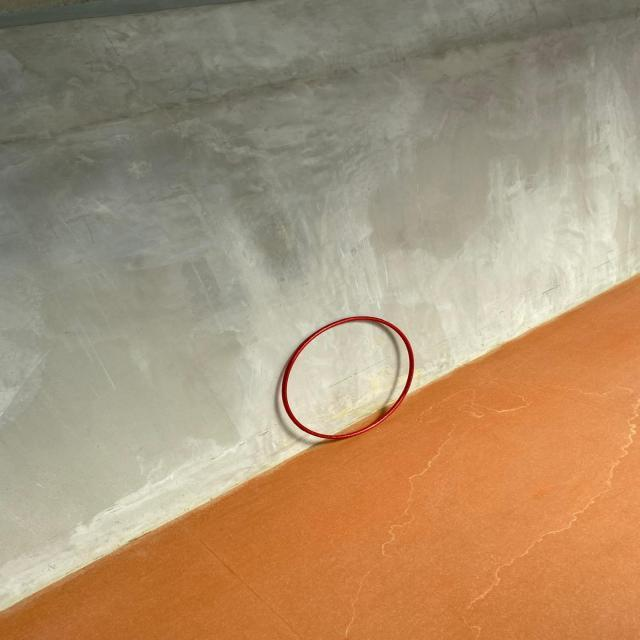Circle: (277, 313, 417, 439)
